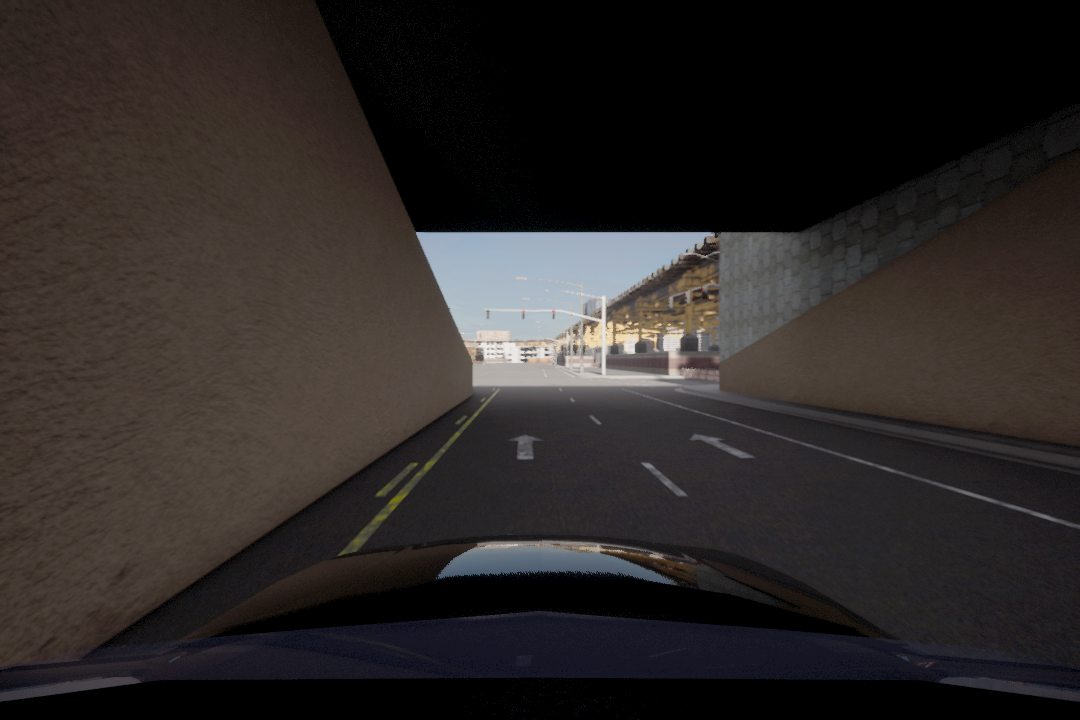RoadSign_forward: (684, 427, 755, 465), (508, 431, 546, 466)
